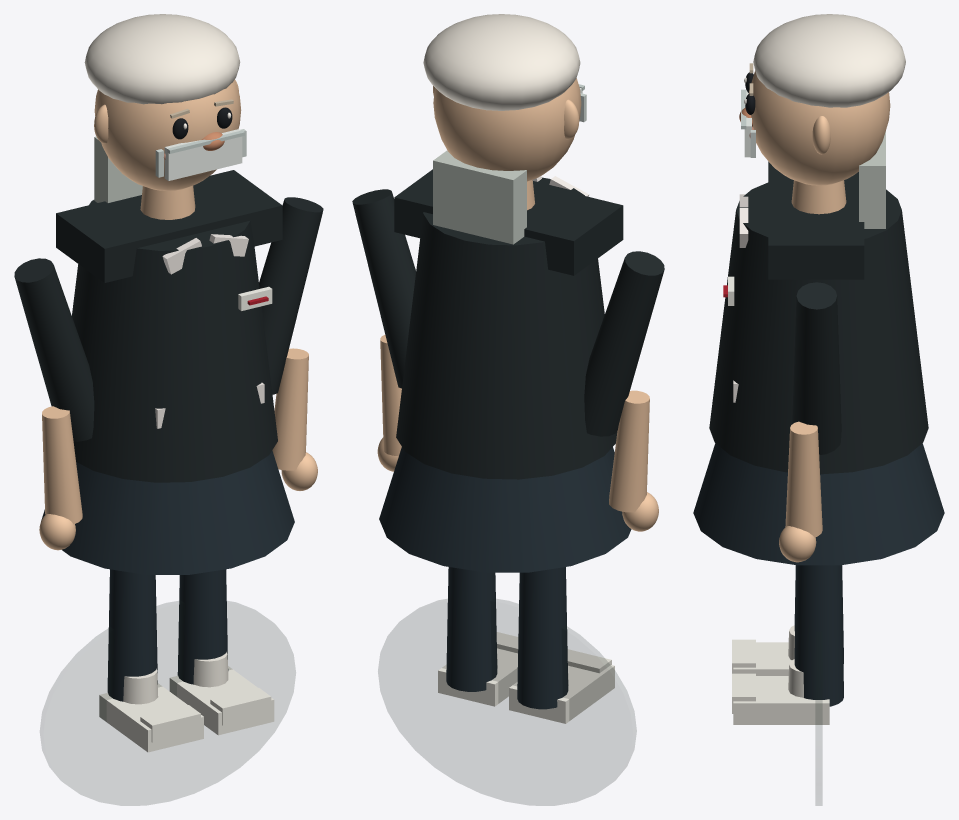
File: staff_03_stock.glb
3 views of the same model, side by side, from view 1: azimuth 30°, elevation 25°; view 2: azimuth 150°, elevation 25°; view 3: azimuth 270°, elevation 25° (orthographic). The views are drawn at different scales.
Visible parts, largest first — view 1: torso, contact_shadow, skirt, shoulder_line, covered_hair, head, upper_arm_-0.235, upper_arm_0.235, leg_-0.075, leg_0.075, forearm_-0.235, forearm_0.235 (+12 smaller); view 2: torso, contact_shadow, skirt, covered_hair, head, upper_arm_-0.235, shoulder_line, leg_-0.075, scarf_tail, upper_arm_0.235, leg_0.075, forearm_-0.235 (+5 smaller); view 3: torso, skirt, covered_hair, head, shoulder_line, upper_arm_0.235, leg_0.075, forearm_0.235, shoe_0.075, scarf_tail, neck, shoe_-0.075 (+6 smaller).
Boxes of the visible parts, x1,y1,x2,y2 form: torso: (72,200,277,482); contact_shadow: (40,601,295,805); skirt: (41,450,294,574); shoulder_line: (56,170,282,282); covered_hair: (84,14,240,104); head: (94,79,241,190); upper_arm_-0.235: (14,258,94,441); upper_arm_0.235: (259,197,323,394); leg_-0.075: (107,569,157,701); leg_0.075: (177,569,228,684); forearm_-0.235: (42,406,82,524); forearm_0.235: (272,348,308,470); torso: (396,177,617,479); contact_shadow: (378,599,636,805); skirt: (379,447,631,572); covered_hair: (423,14,580,110); head: (433,78,581,181); upper_arm_-0.235: (584,251,664,436); shoulder_line: (394,169,623,275); leg_-0.075: (517,567,568,709); scarf_tail: (433,150,526,244); upper_arm_0.235: (352,189,415,388); leg_0.075: (446,567,497,691); forearm_-0.235: (609,390,649,512); torso: (709,182,928,474); skirt: (693,443,944,565); covered_hair: (753,14,905,107); head: (748,70,890,185); shoulder_line: (768,161,864,279); upper_arm_0.235: (792,282,841,454); leg_0.075: (794,565,843,706); forearm_0.235: (785,421,822,537); shoe_0.075: (733,676,829,724); scarf_tail: (859,131,885,228); neck: (791,180,846,214); shoe_-0.075: (733,642,791,675).
Bounding box in the file's own units: 0.6295 × 1.52 × 0.4559.
